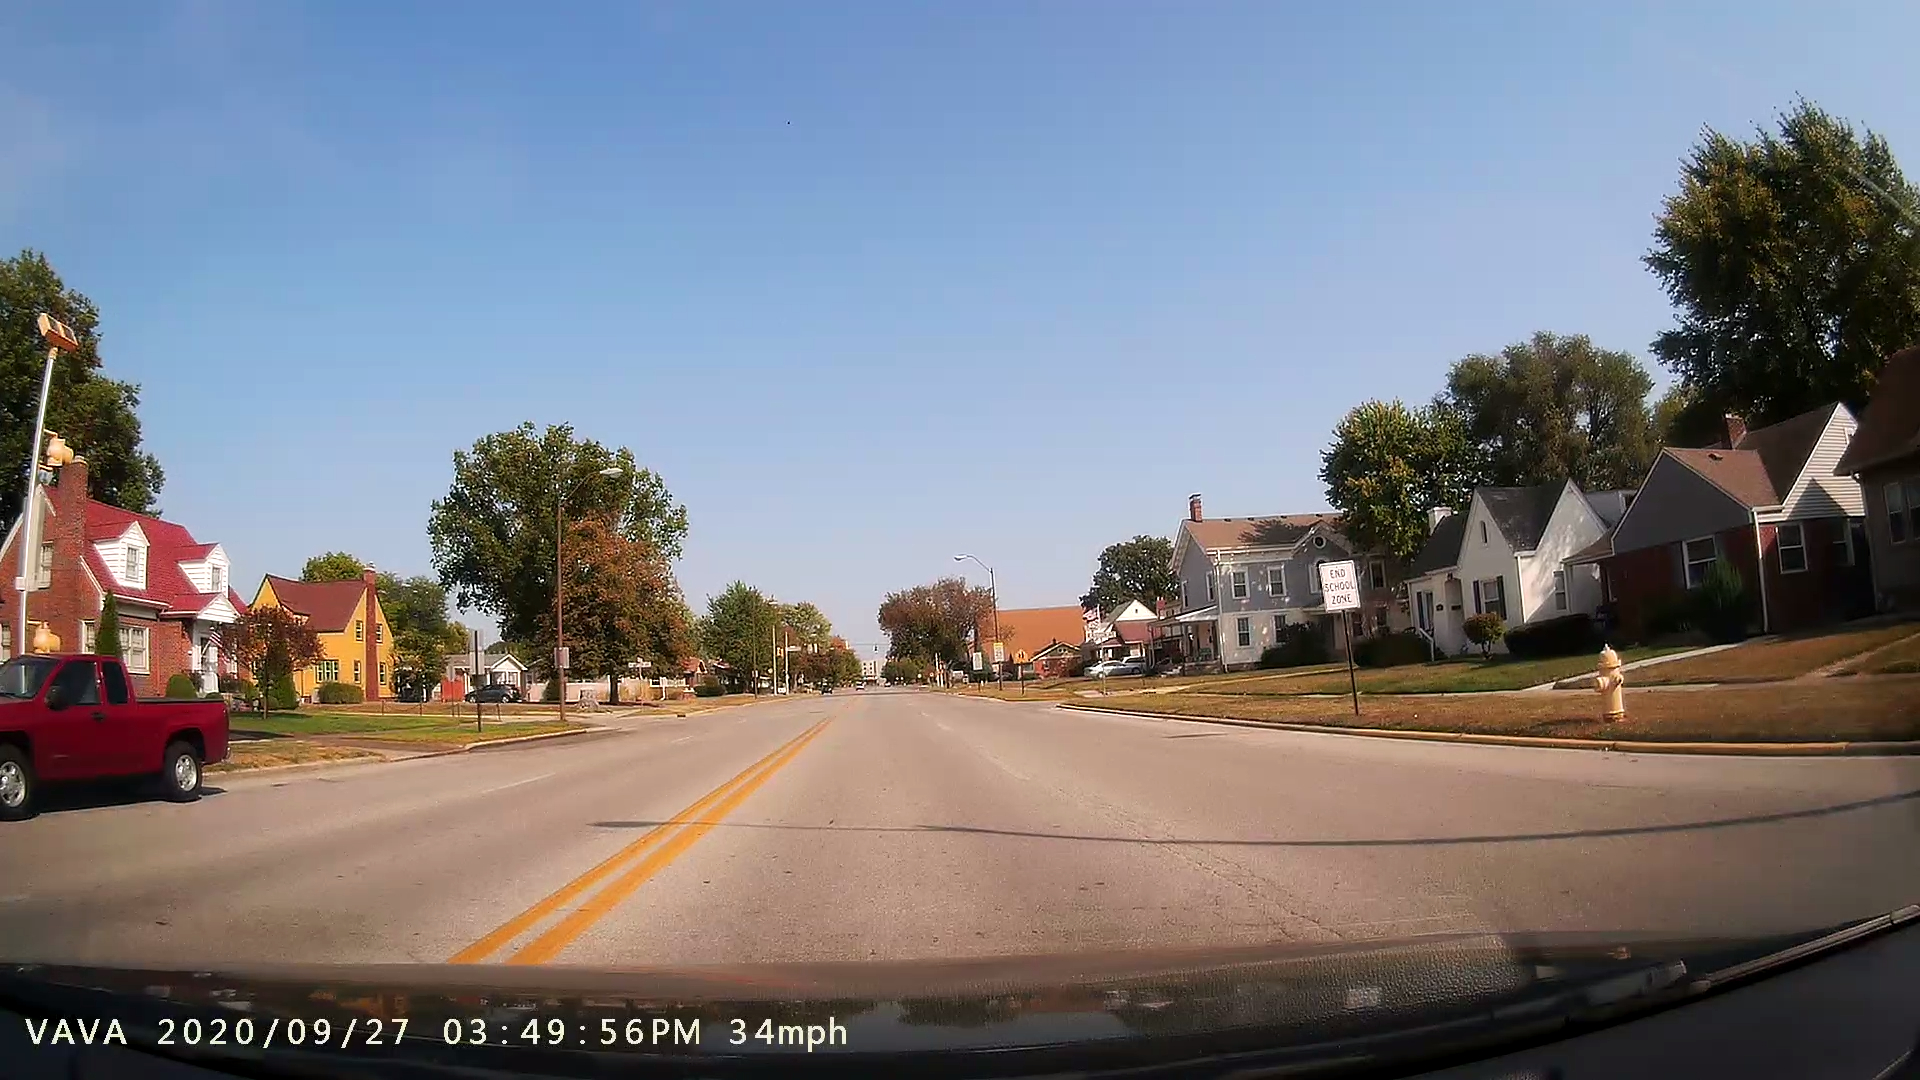fire_hydrant: (1573, 633, 1642, 731)
